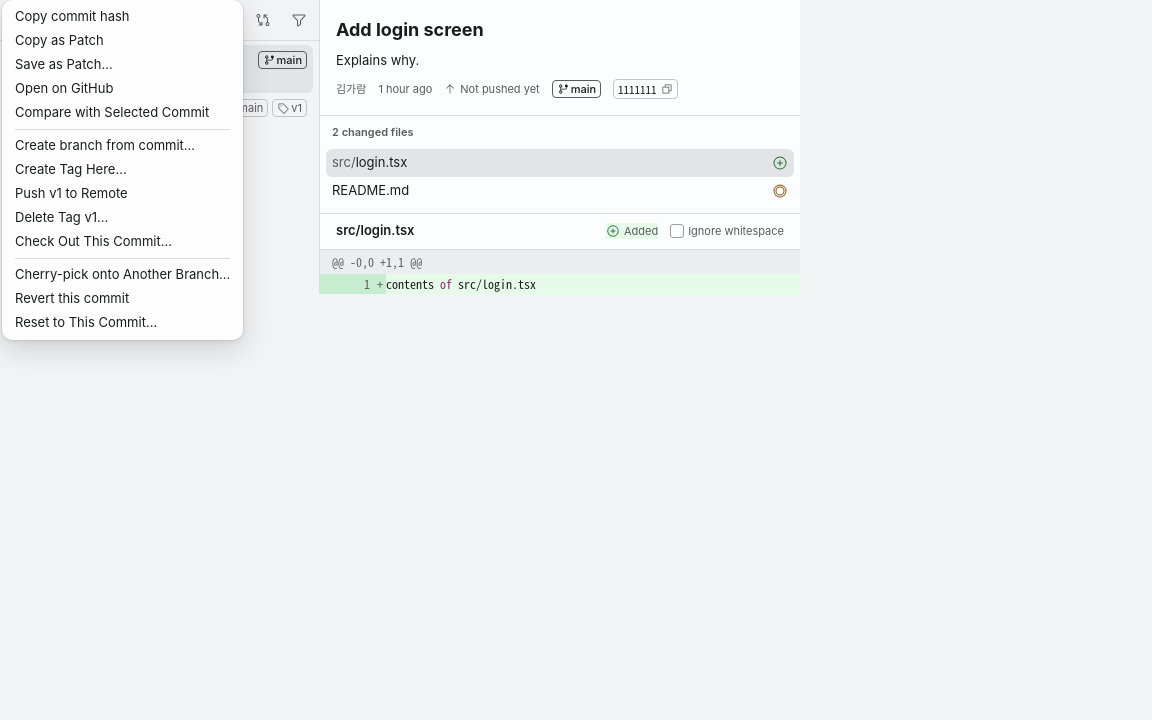
Test: HistoryView › creates a tag, showing git's refusal in the dialog
Click the menu item "Create Tag Here…". click: (71,169)
box: x1=15 y1=161 x2=127 y2=177
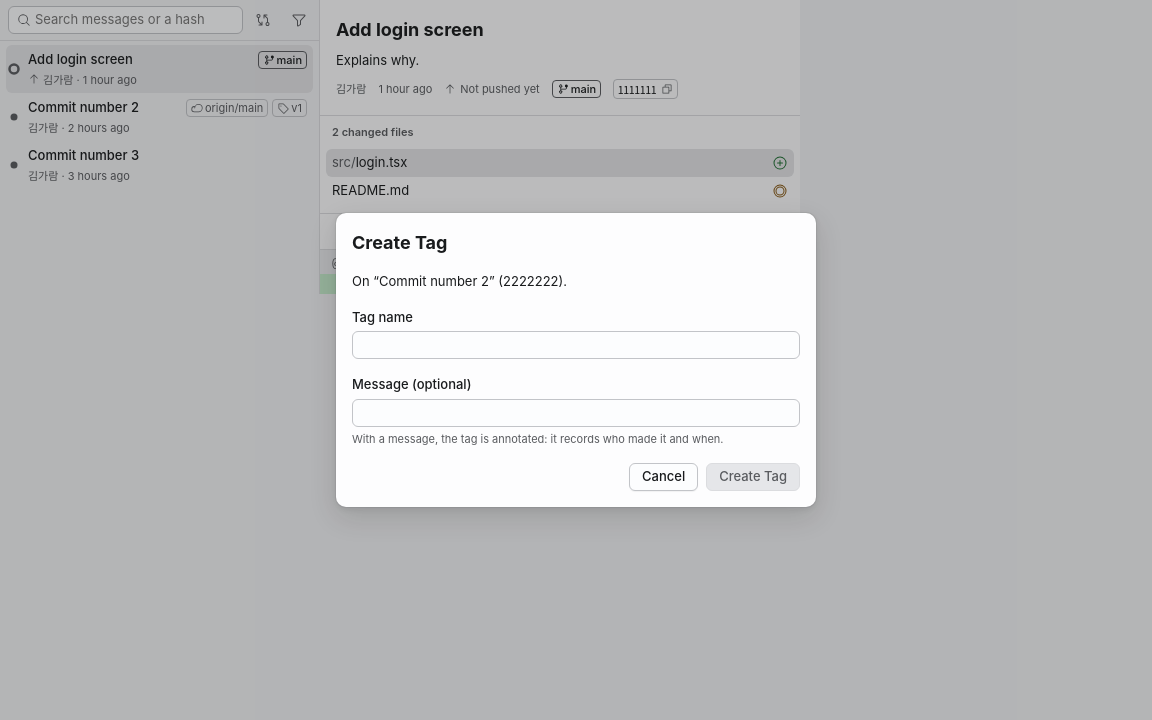
Expected: the button "Create Tag" is disabled, x1=706 y1=463 x2=800 y2=491
Type " v1.0 " into the field labelled "Tag name". click: (576,345)
box: x1=352 y1=331 x2=800 y2=359
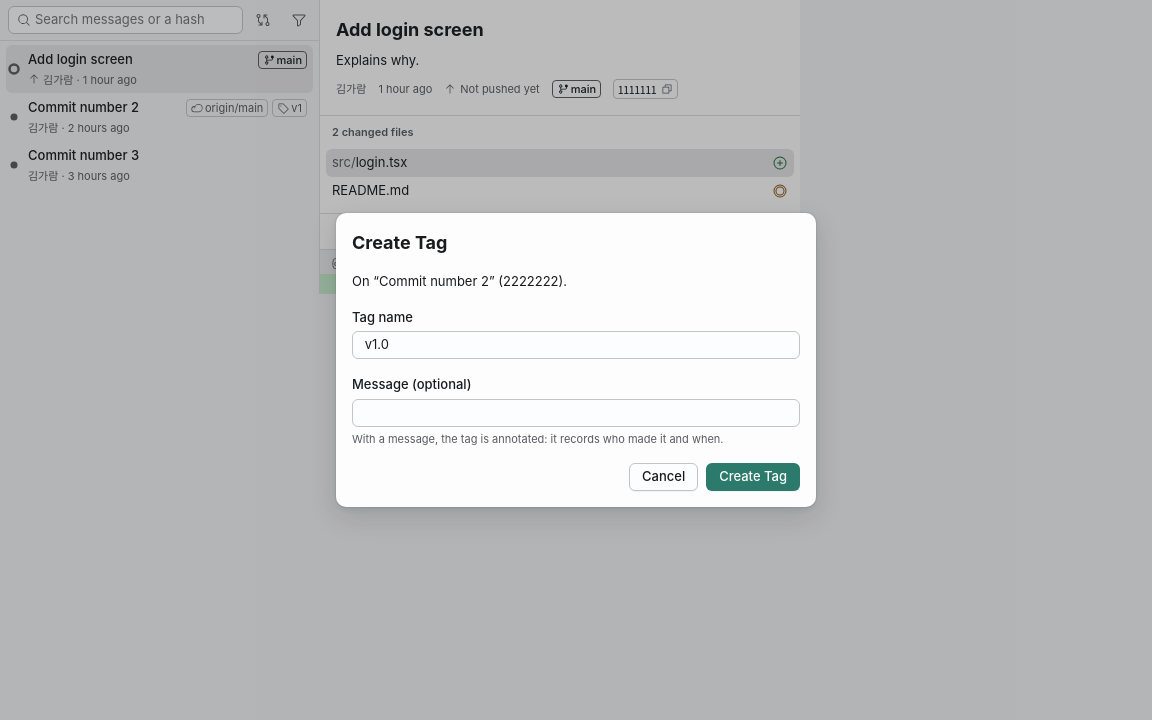
Type "First" into the field labelled "Message (optional)". click: (576,412)
box: x1=352 y1=398 x2=800 y2=426
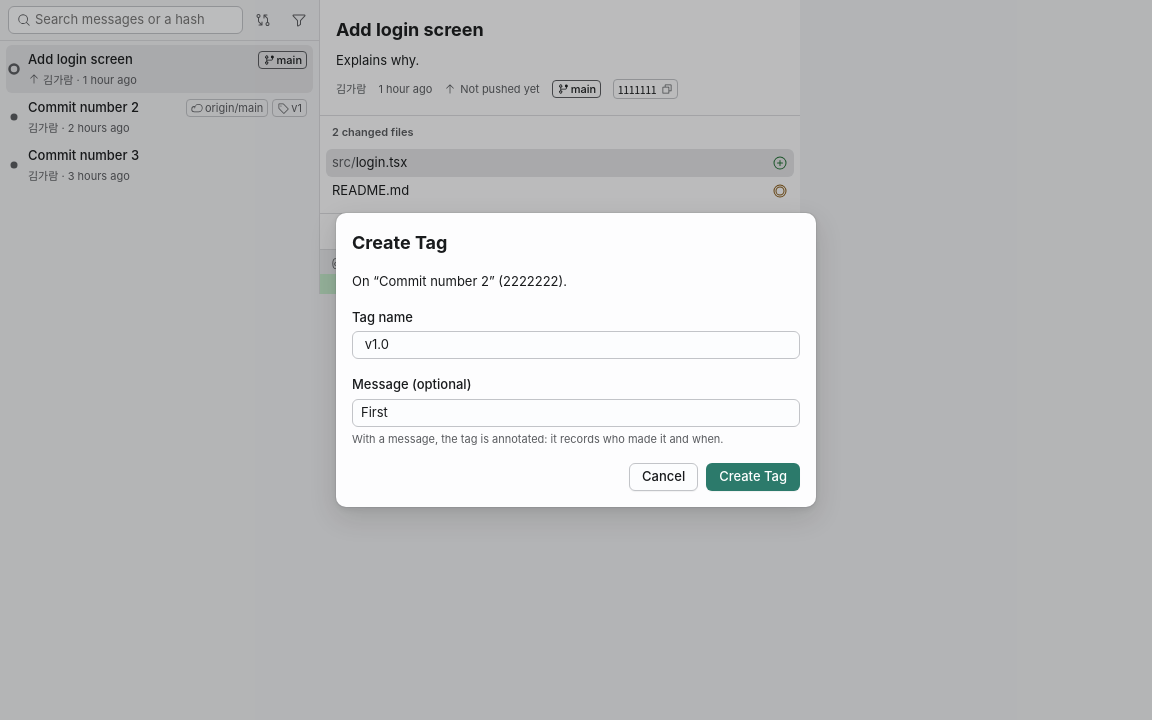
Click the button "Create Tag". click: (753,477)
box: x1=706 y1=463 x2=800 y2=491
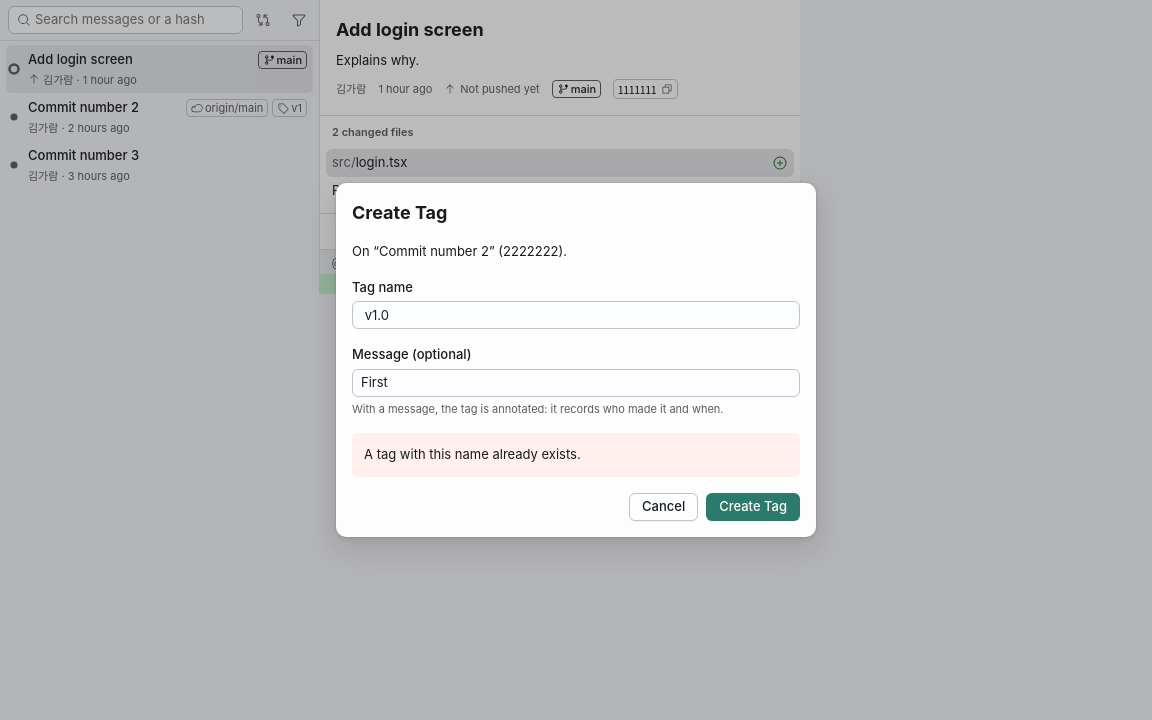
Expected: the text "A tag with this name already exists." is shown, x1=364 y1=445 x2=581 y2=465
Click the button "Create Tag". click: (753,507)
box: x1=706 y1=493 x2=800 y2=521
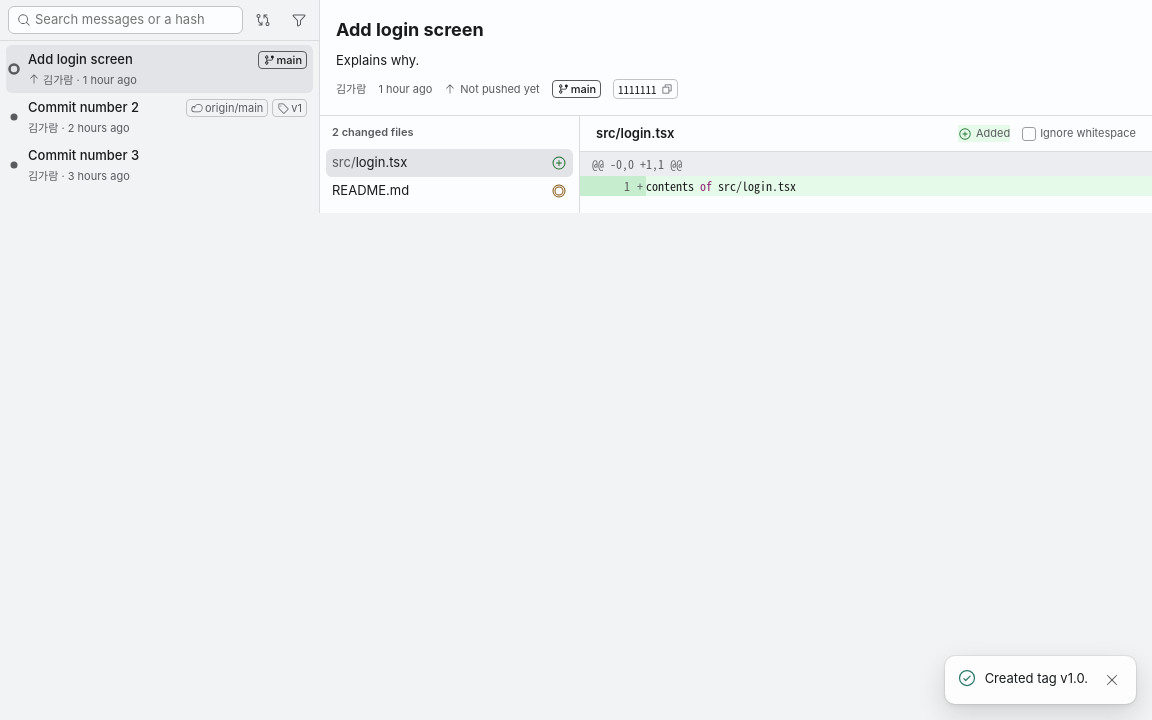
Expected: the text "Created tag v1.0." is shown, x1=985 y1=669 x2=1088 y2=688
